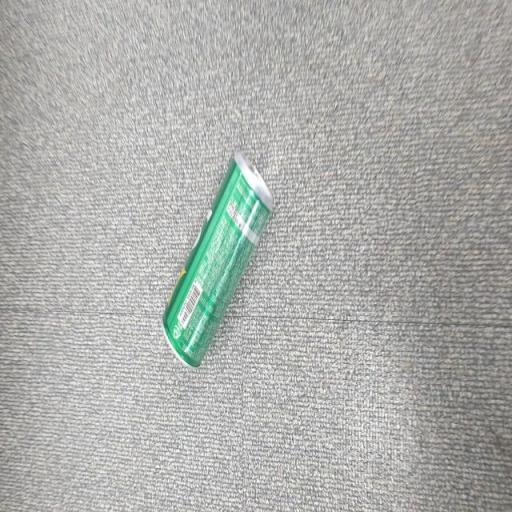metal: (157, 143, 275, 375)
